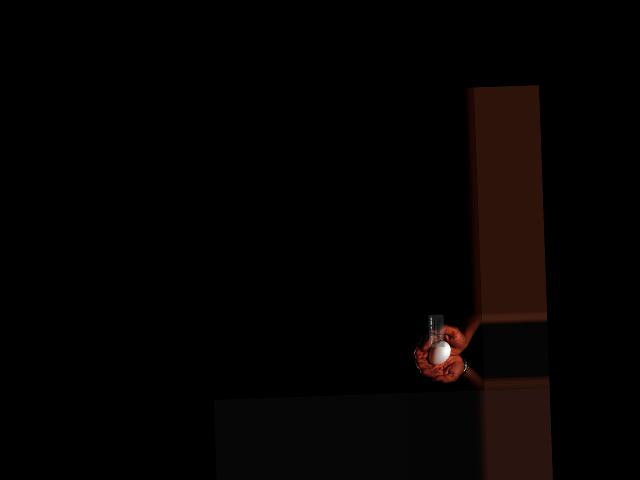egg: (427, 341, 451, 365)
